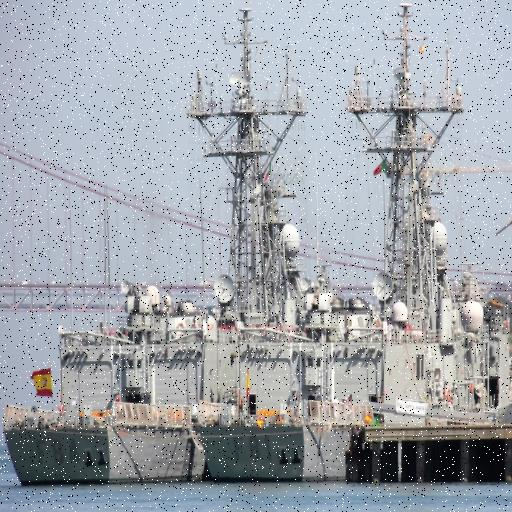Fragata: (3, 1, 327, 487), (191, 1, 512, 488)
